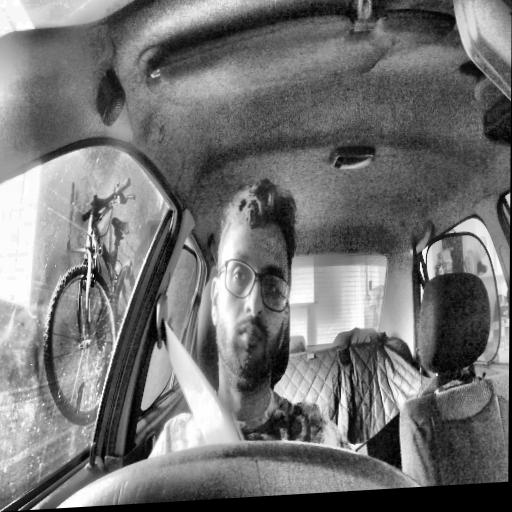awake: (209, 178, 297, 397)
